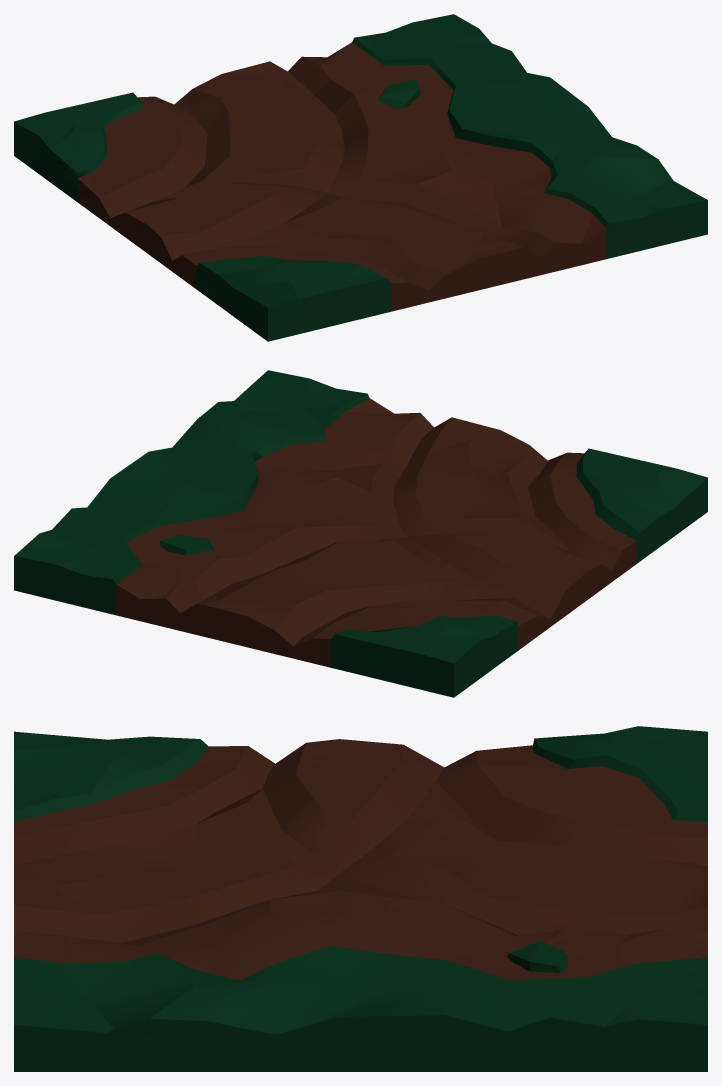
Rendered from Ground_Road_Crossroads_L.fbx.
The picture shows the model from 3 angles, top to bottom: view 1: azimuth 30°, elevation 25°; view 2: azimuth 150°, elevation 25°; view 3: azimuth 270°, elevation 25°; orthographic projection. The views are drawn at different scales.
Visible parts, largest first — view 1: Ground_Road_Crossroads_L; view 2: Ground_Road_Crossroads_L; view 3: Ground_Road_Crossroads_L.
Part boxes in pixels (bbox=[...]): Ground_Road_Crossroads_L: bbox=[14, 14, 707, 341]; Ground_Road_Crossroads_L: bbox=[14, 370, 707, 697]; Ground_Road_Crossroads_L: bbox=[14, 726, 707, 1071].
Size of the model in its own units: 147 by 13.39 by 147.
